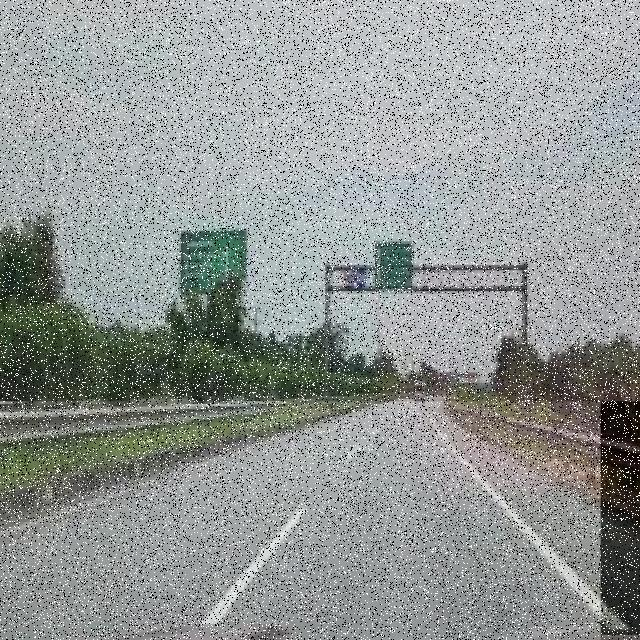clear-road: (0, 401, 601, 640), (433, 401, 640, 630)
